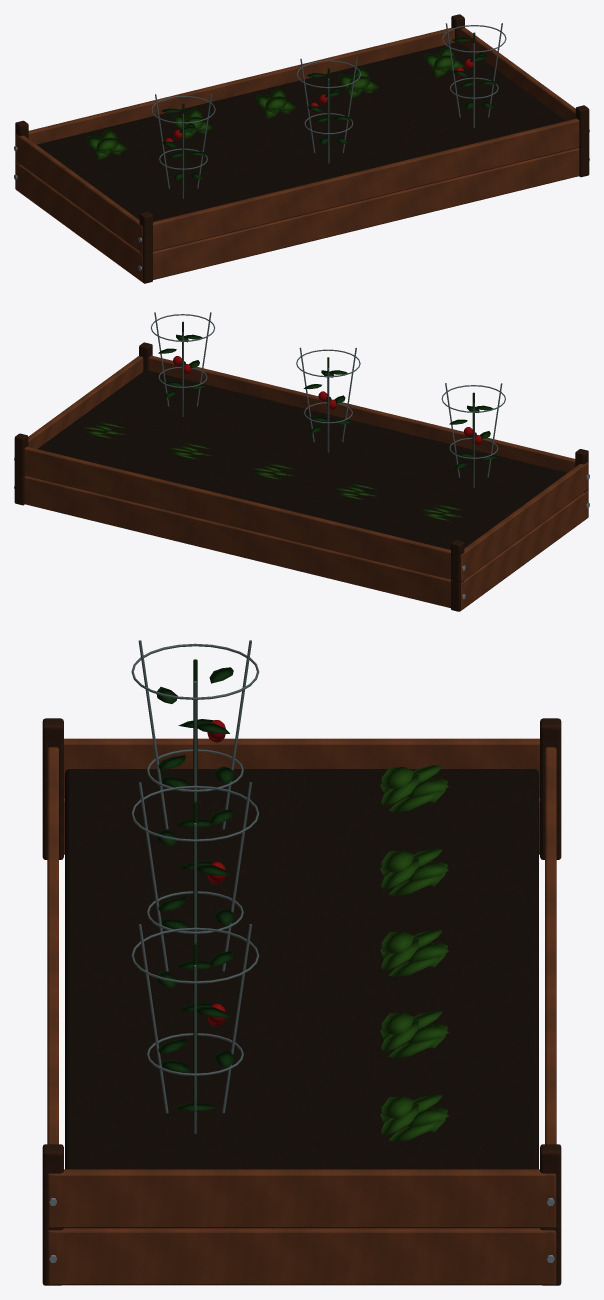
Rendered from RaisedGardenBed.gltf.
The picture shows the model from 3 angles, top to bottom: view 1: azimuth 30°, elevation 25°; view 2: azimuth 150°, elevation 25°; view 3: azimuth 270°, elevation 25°; orthographic projection. The views are drawn at different scales.
Parts seen in each view (by area): view 1: RaisedGardenBed__Body, RaisedGardenBed__Plants; view 2: RaisedGardenBed__Body, RaisedGardenBed__Plants; view 3: RaisedGardenBed__Body, RaisedGardenBed__Plants.
Boxes of the visible parts, x1=… form: RaisedGardenBed__Body: x1=14, y1=14, x2=589, y2=283; RaisedGardenBed__Plants: x1=87, y1=23, x2=506, y2=198; RaisedGardenBed__Body: x1=14, y1=342, x2=589, y2=611; RaisedGardenBed__Plants: x1=82, y1=312, x2=505, y2=520; RaisedGardenBed__Body: x1=42, y1=718, x2=561, y2=1285; RaisedGardenBed__Plants: x1=131, y1=640, x2=448, y2=1141.
Bounding box in the file's own units: 2.41 × 0.7 × 1.2.
Materials: 1 (1 with a texture image).
